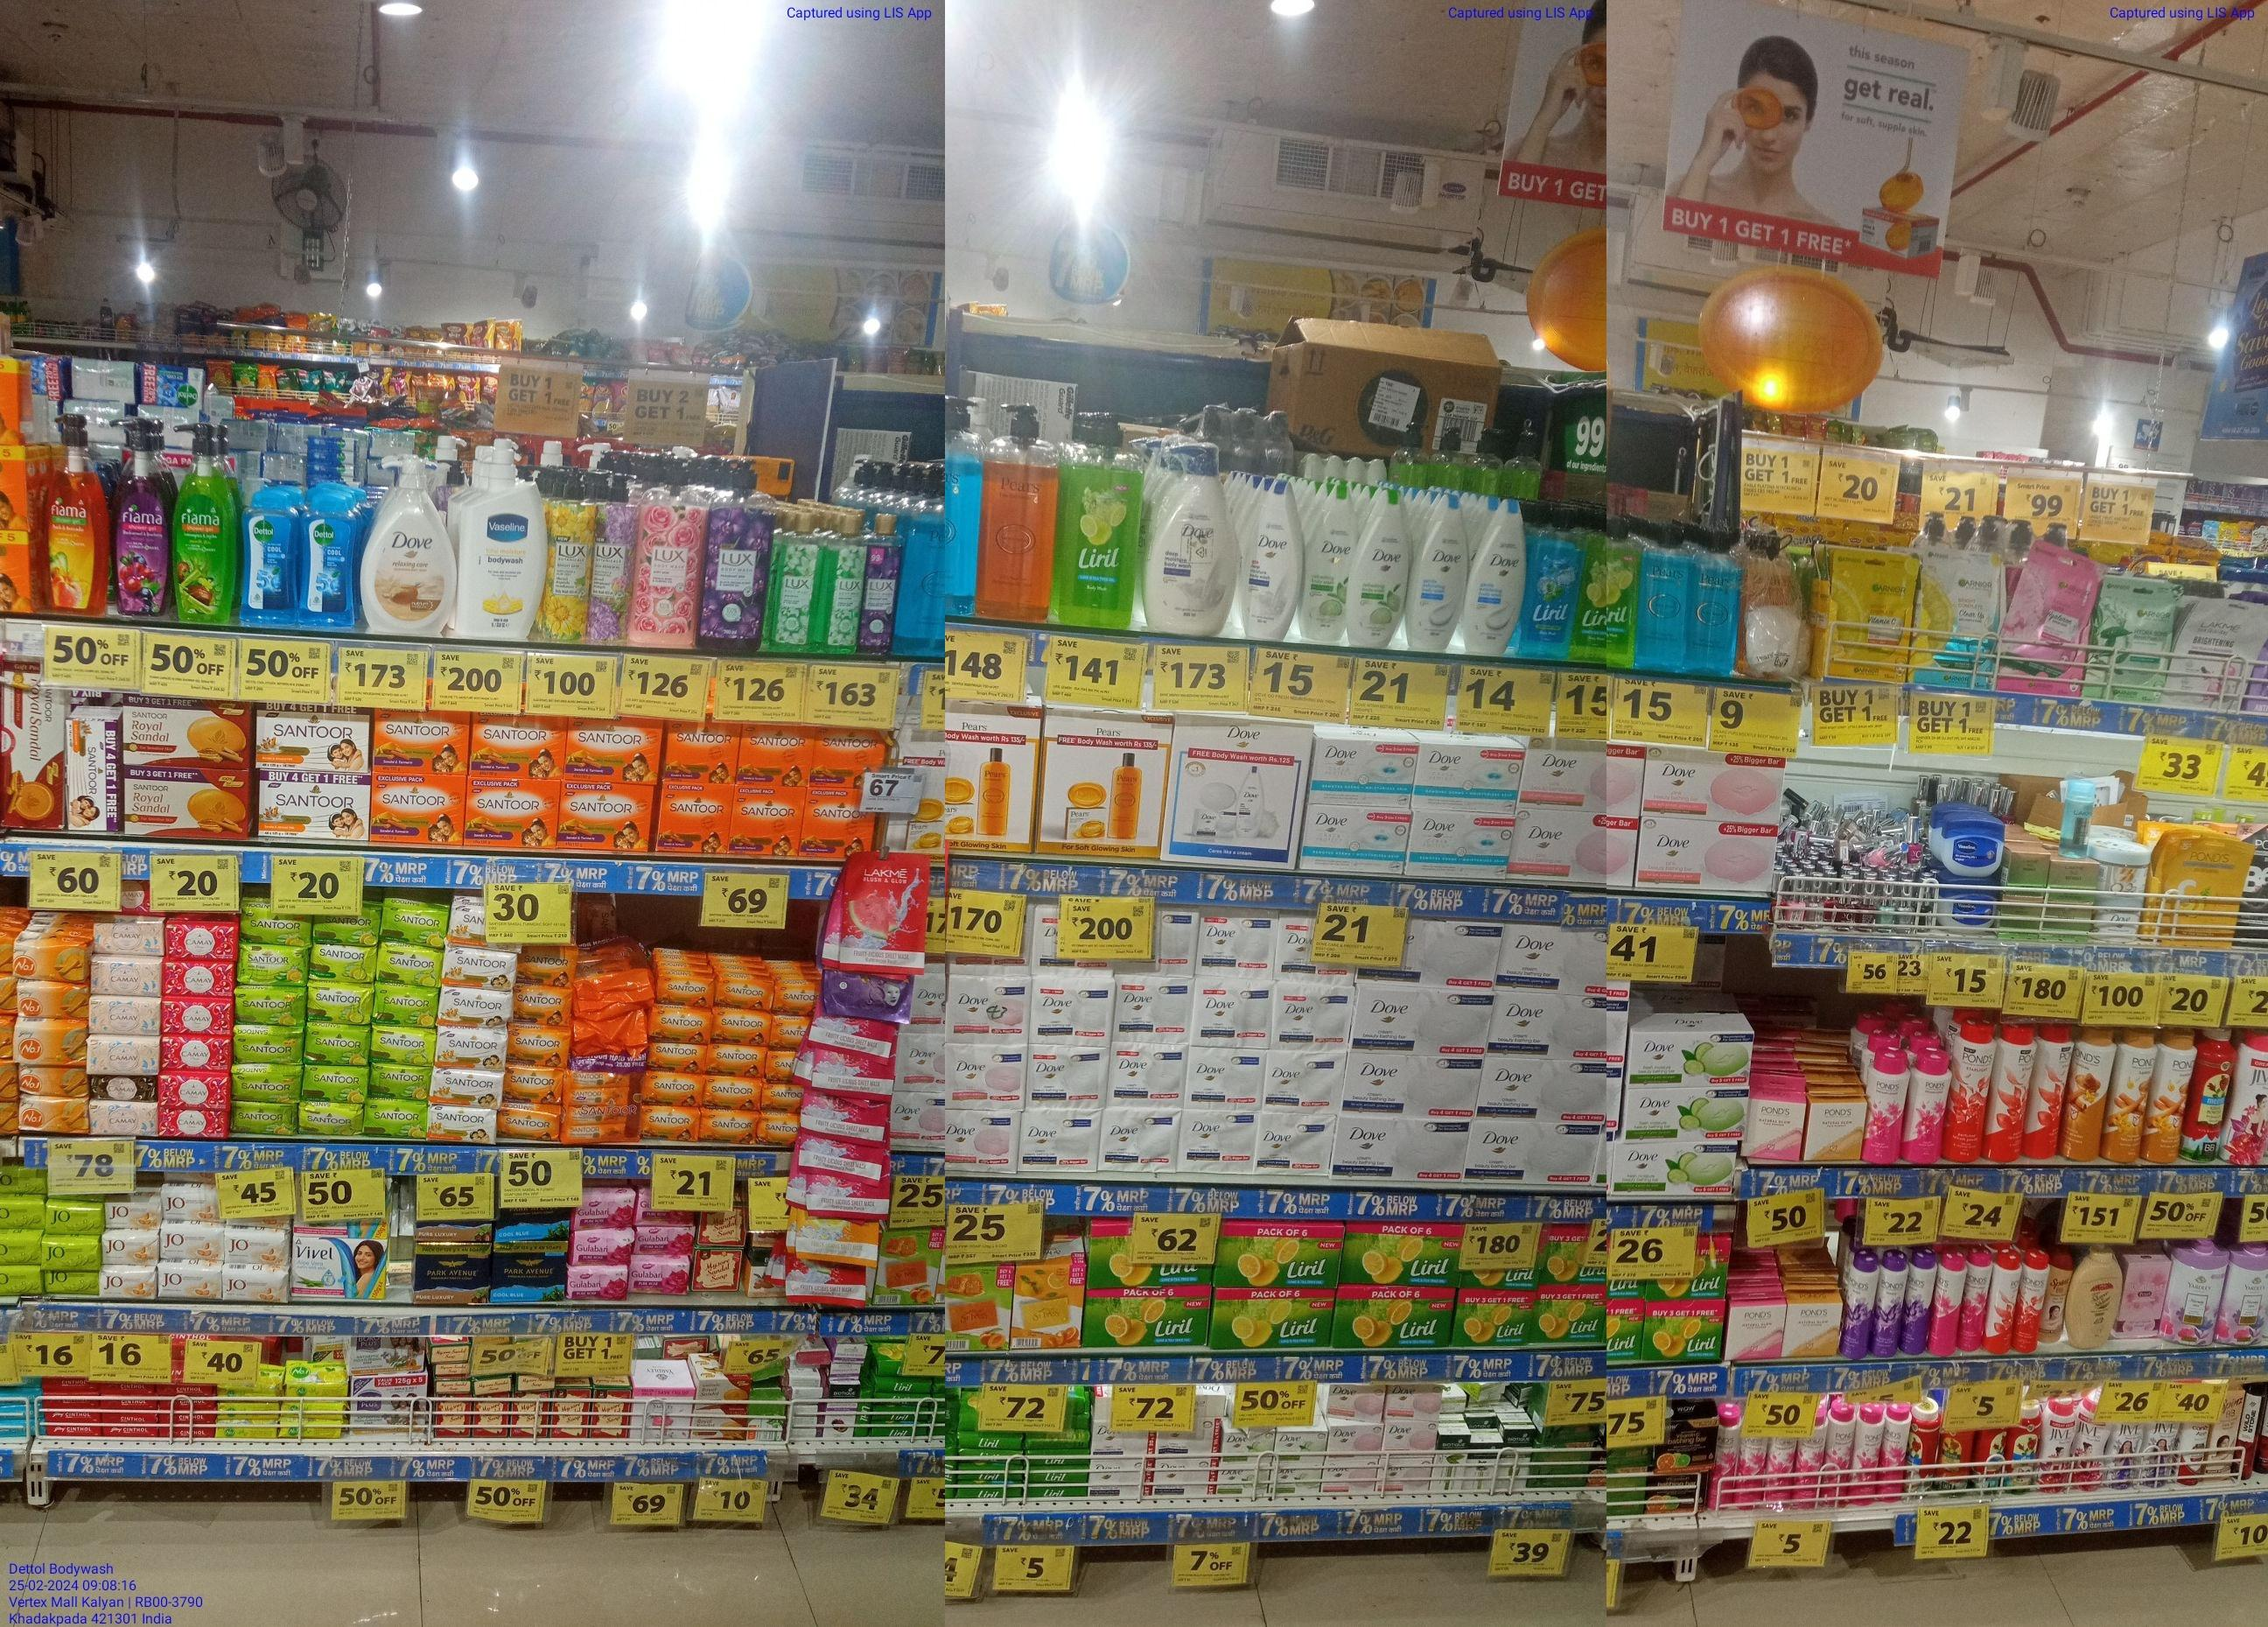Dettol_Bodywash_Cool: (243, 491, 297, 627), (301, 493, 354, 629)
Dove_Deep_Moisture_Body_Wash_250ML: (1246, 479, 1300, 643)
Dove_Gentle_Exfoliating_Body_Wash_250ML: (1469, 500, 1527, 653), (1415, 495, 1467, 650)
Dove_Refreshing_Body_Wash_250ML: (1357, 491, 1409, 646), (1304, 482, 1348, 643)
Lux_Black_Orchid_Scent_and_Juniper_Oil_Body_Wash_245ML: (867, 512, 904, 655)
Lux_Body_Wash_Skin_Detox_Freesia_Scent_and_Alove_Vera_245ML: (774, 512, 823, 648), (825, 514, 862, 653)
